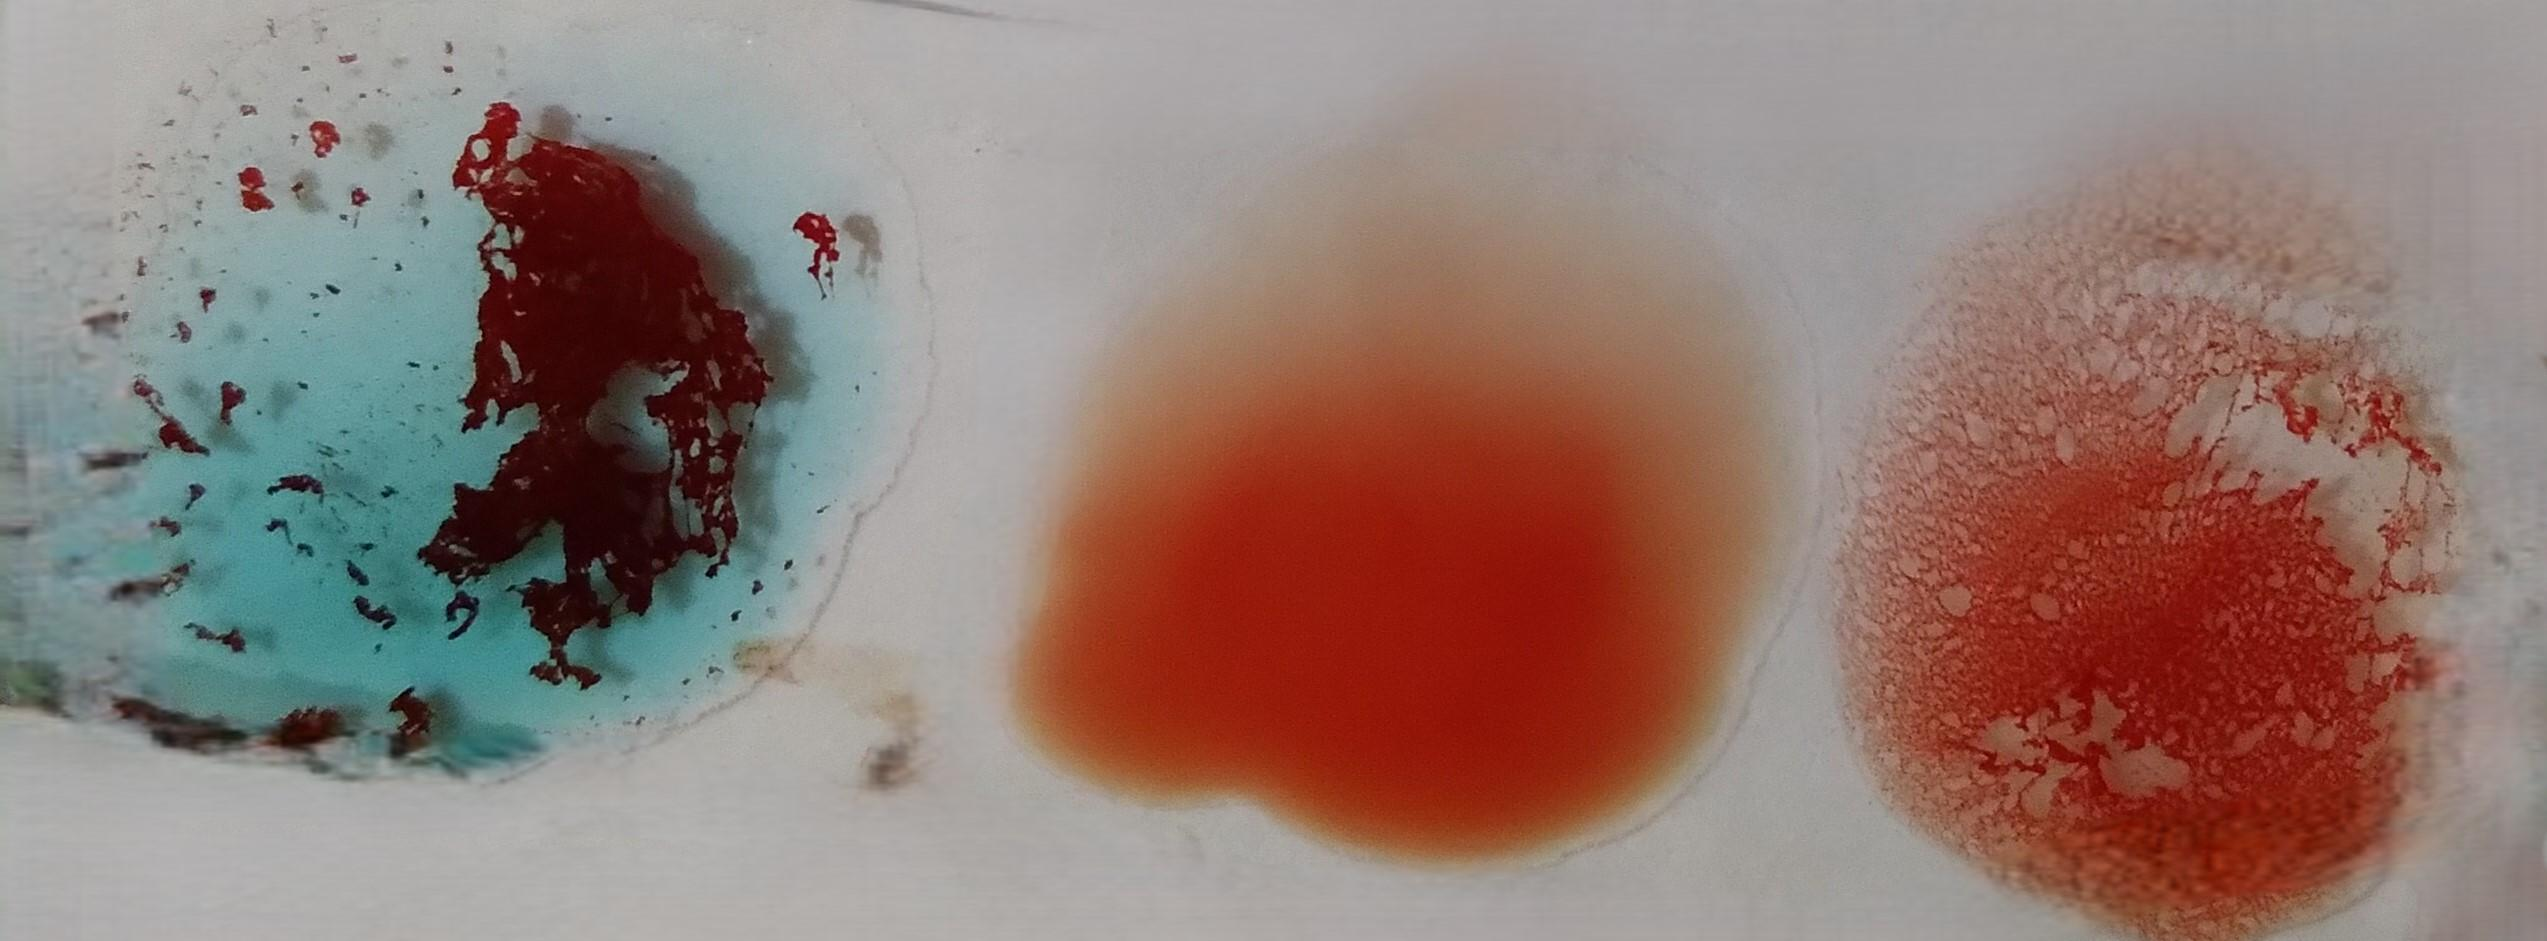A: (65, 0, 921, 785)
D: (1845, 228, 2453, 941)
